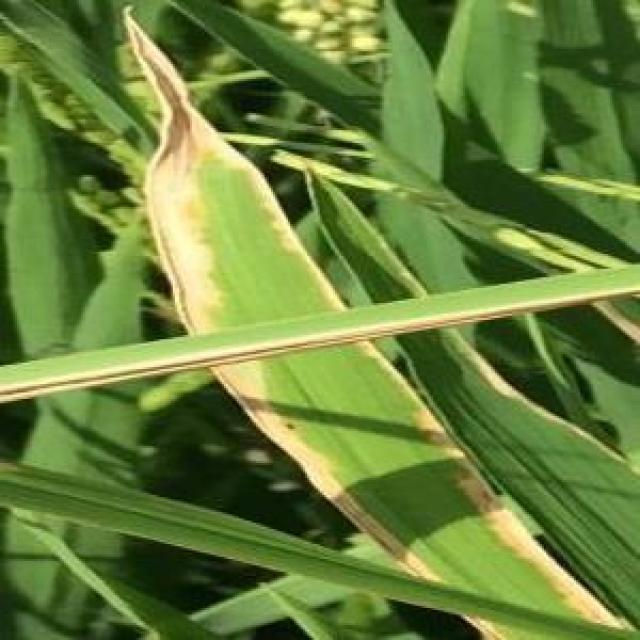Bacterial_Blight: (125, 9, 627, 628), (123, 11, 499, 640)
